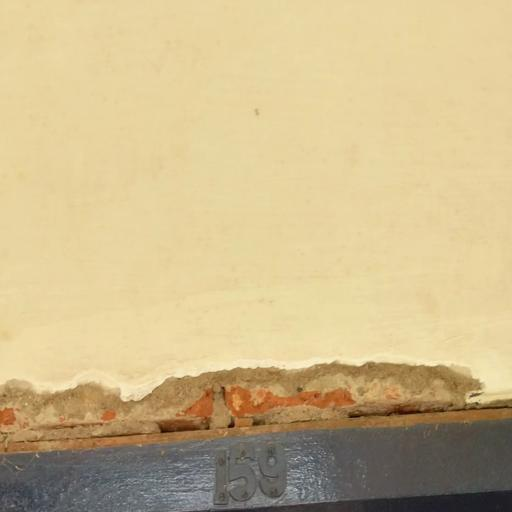spalling: (0, 345, 512, 449)
